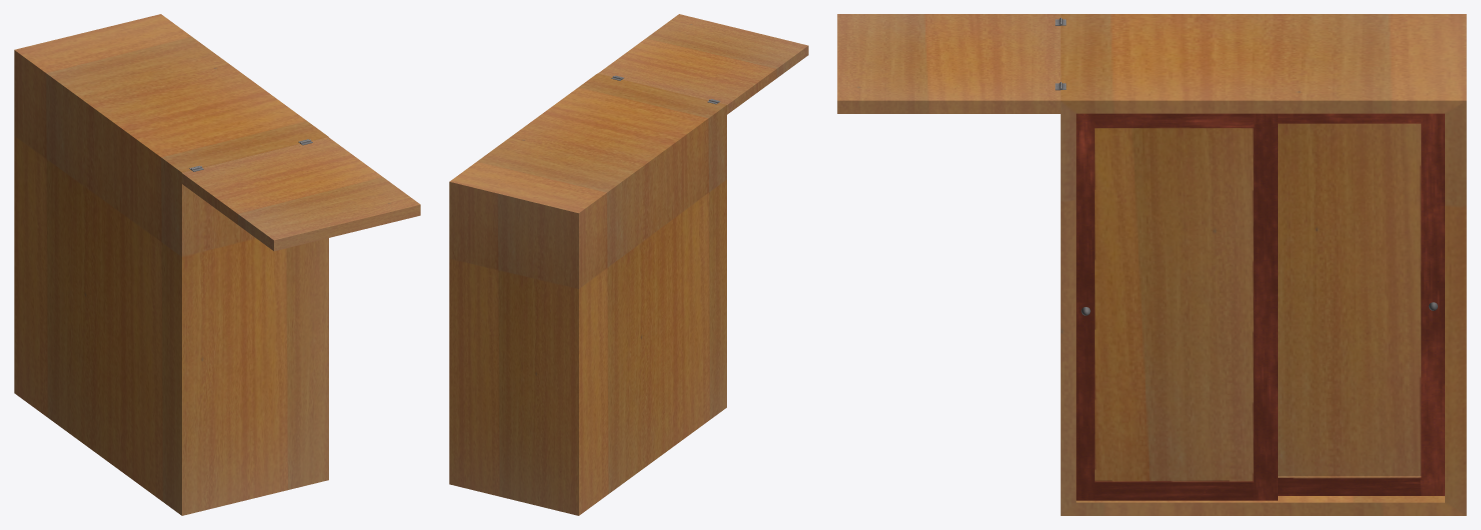
Rendered from SM_Storage_Closet.fbx.
3 renders of one model, left to right at view 1: azimuth 30°, elevation 25°; view 2: azimuth 150°, elevation 25°; view 3: azimuth 270°, elevation 25°, orthographic. The views are drawn at different scales.
Parts seen in each view (by area): view 1: SM_Storage_Closet; view 2: SM_Storage_Closet; view 3: SM_Storage_Closet.
Boxes of the visible parts, x1,y1,x2,y2 form: SM_Storage_Closet: (14, 14, 420, 515); SM_Storage_Closet: (449, 14, 808, 515); SM_Storage_Closet: (837, 14, 1466, 515).
Size of the model in its own units: 54.28 by 166 by 122.
1 material, 1 textured.
